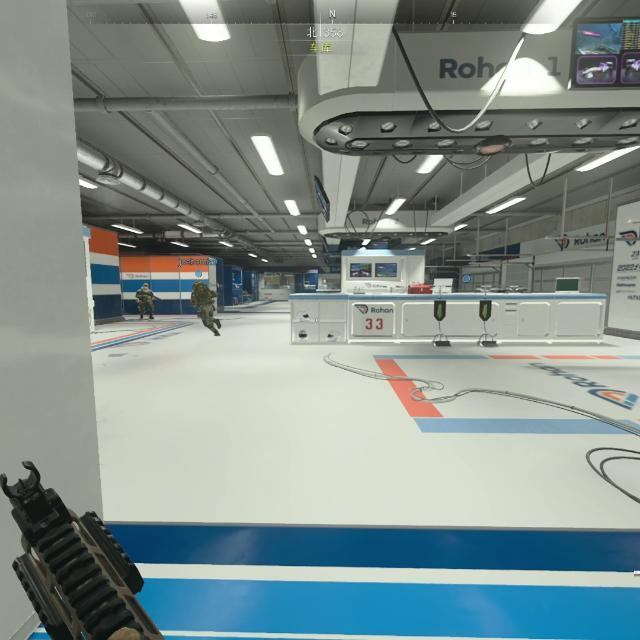MW2_body: (134, 282, 158, 319)
